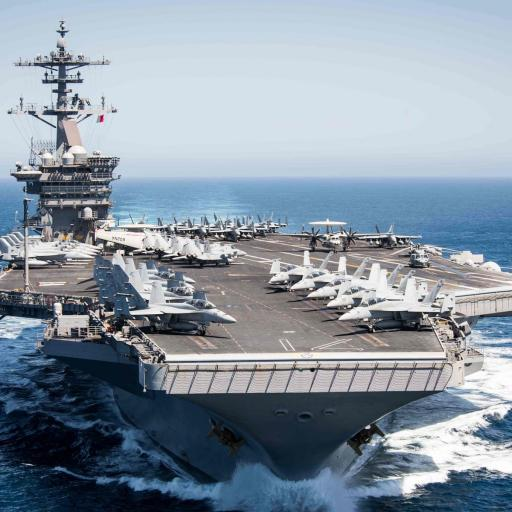Portanaves: (1, 18, 507, 490)
